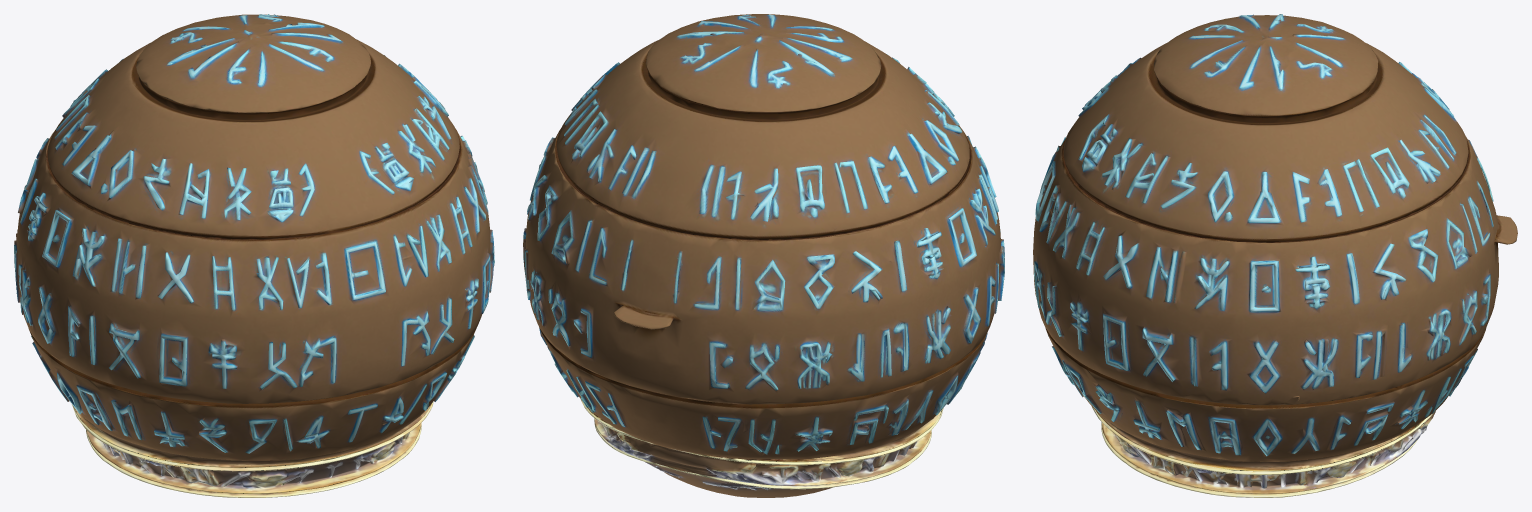
The model's file is Enemigo10.glb.
3 views of the same model, side by side, from view 1: azimuth 30°, elevation 25°; view 2: azimuth 150°, elevation 25°; view 3: azimuth 270°, elevation 25° (orthographic).
Visible parts, largest first — view 1: tripo_node_7d73958d-3edb-4b08-8fb9-962daf99992c; view 2: tripo_node_7d73958d-3edb-4b08-8fb9-962daf99992c; view 3: tripo_node_7d73958d-3edb-4b08-8fb9-962daf99992c.
Part boxes in pixels (x1,y1,x2,y2): tripo_node_7d73958d-3edb-4b08-8fb9-962daf99992c: (14,14,494,497); tripo_node_7d73958d-3edb-4b08-8fb9-962daf99992c: (523,14,1004,497); tripo_node_7d73958d-3edb-4b08-8fb9-962daf99992c: (1033,14,1517,497).
Size of the model in its own units: 0.9723 by 0.9792 by 0.98.
Materials: 1 (1 with a texture image).
